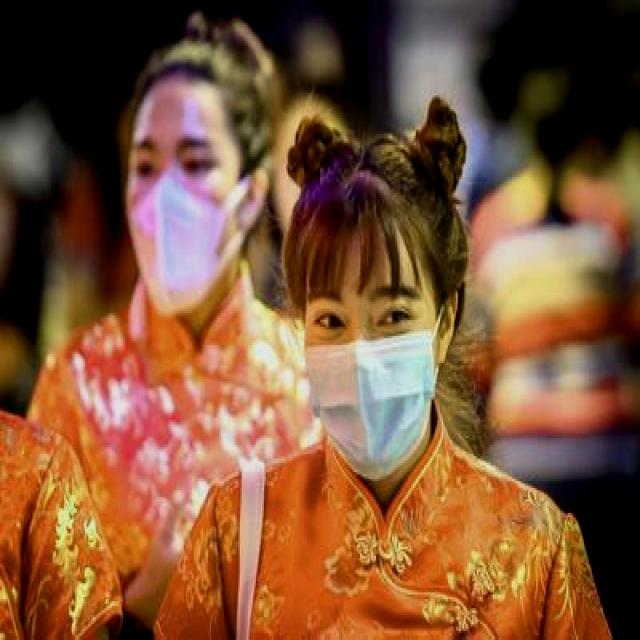face_mask: (307, 256, 443, 479), (123, 116, 245, 315)
head_nohelmet: (282, 120, 456, 277), (136, 32, 269, 109)
